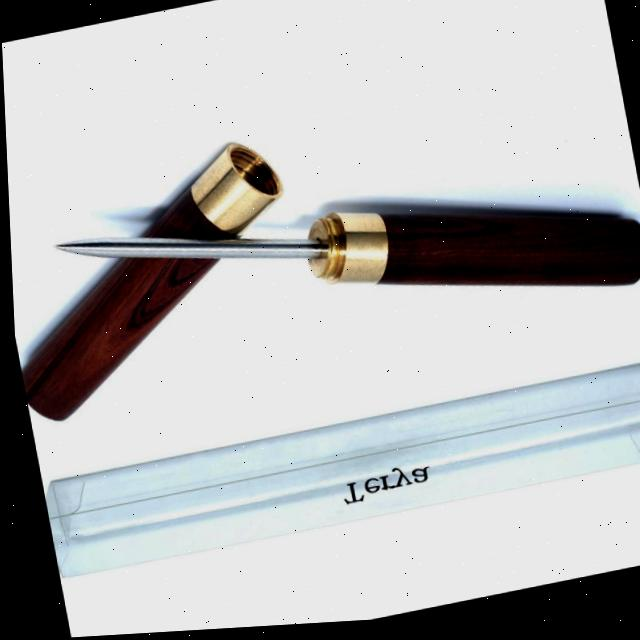ice pick: (47, 138, 640, 395)
